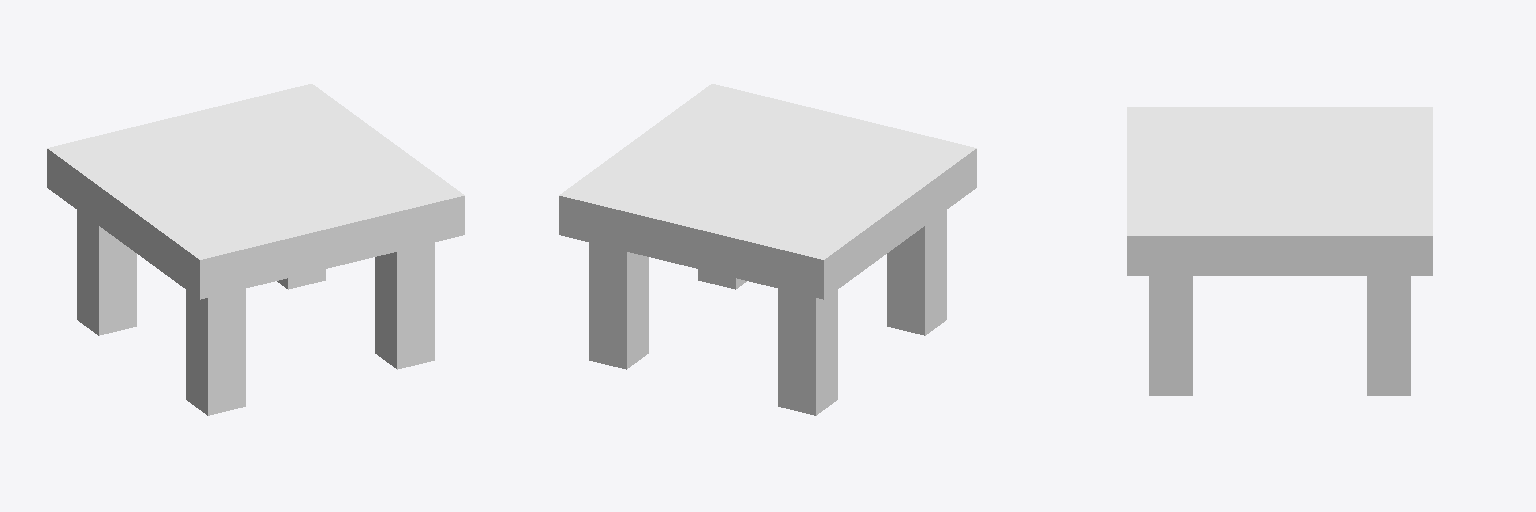
Rendered from mystic workbench.obj.
3 renders of one model, left to right at view 1: azimuth 30°, elevation 25°; view 2: azimuth 150°, elevation 25°; view 3: azimuth 270°, elevation 25°, orthographic.
Parts seen in each view (by area): view 1: object 1; view 2: object 1; view 3: object 1.
Boxes of the visible parts, x1=… form: object 1: x1=47, y1=84, x2=464, y2=415; object 1: x1=559, y1=84, x2=976, y2=415; object 1: x1=1127, y1=107, x2=1432, y2=395.
Bounding box in the file's own units: 2.8 × 1.7 × 2.8.